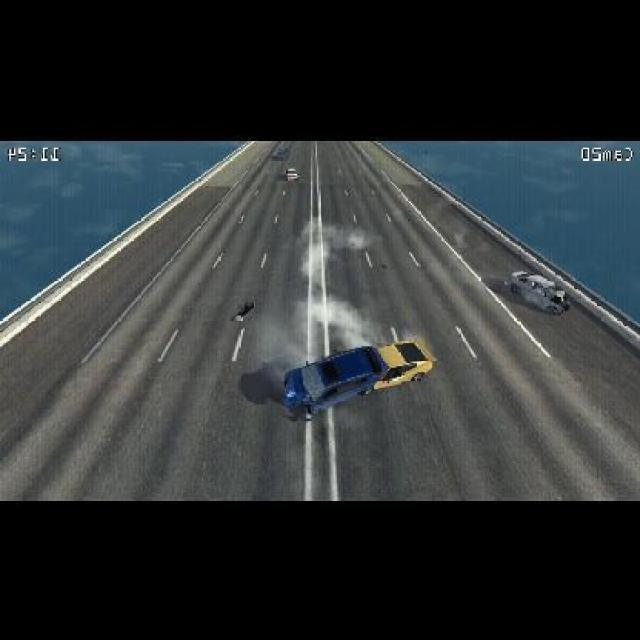accident: (277, 337, 434, 417)
